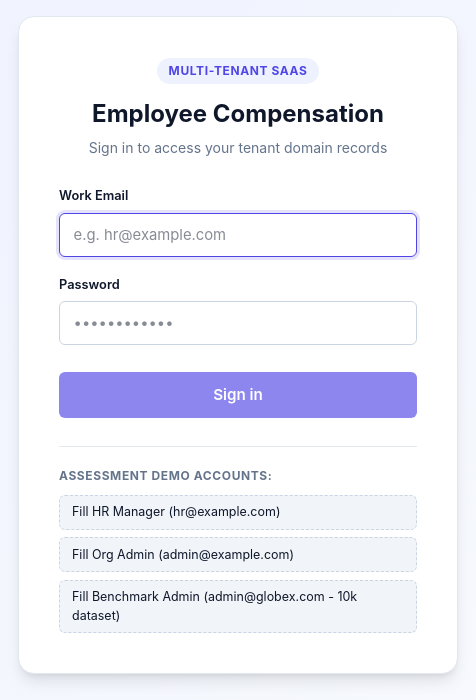
LoginForm Component › populates credentials when clicking Fill HR Manager demo button
Click the button "Fill HR Manager (hr@example.com)" at (238, 513), box [59, 495, 417, 530]
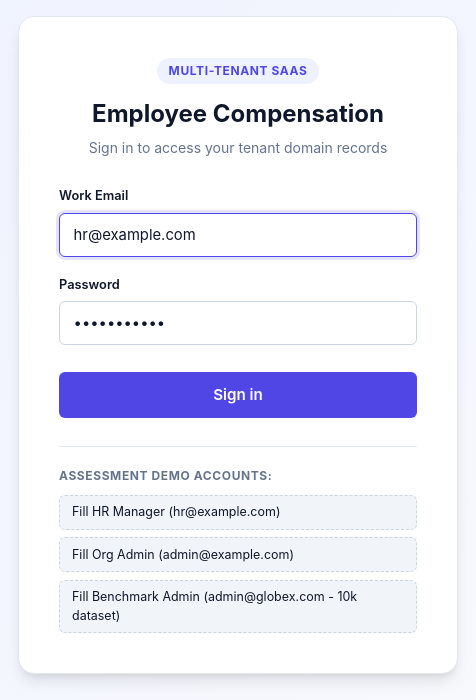
expect the field labelled "Work Email" holds "hr@example.com": met, box [59, 212, 417, 256]
expect the password field labelled "Password" holds "password123": met, box [59, 301, 417, 345]
expect the button "Sign in" is enabled: met, box [59, 372, 417, 418]
